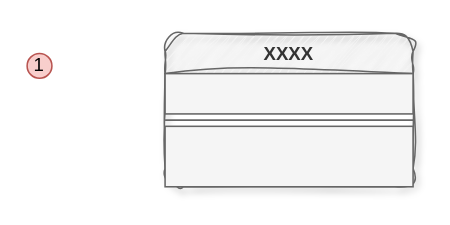
Some shapes in this 450 by 225 pixel diagram are drawn without their labels. The centre of each missing label's shape, as x and y in pixels:
"+ YYYY" goes at pixel 288 93.
"+ ZZZZZ" goes at pixel 288 156.
